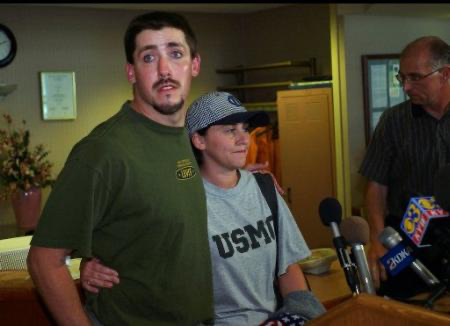Face: (130, 38, 206, 117), (202, 114, 262, 179), (396, 46, 444, 112)
